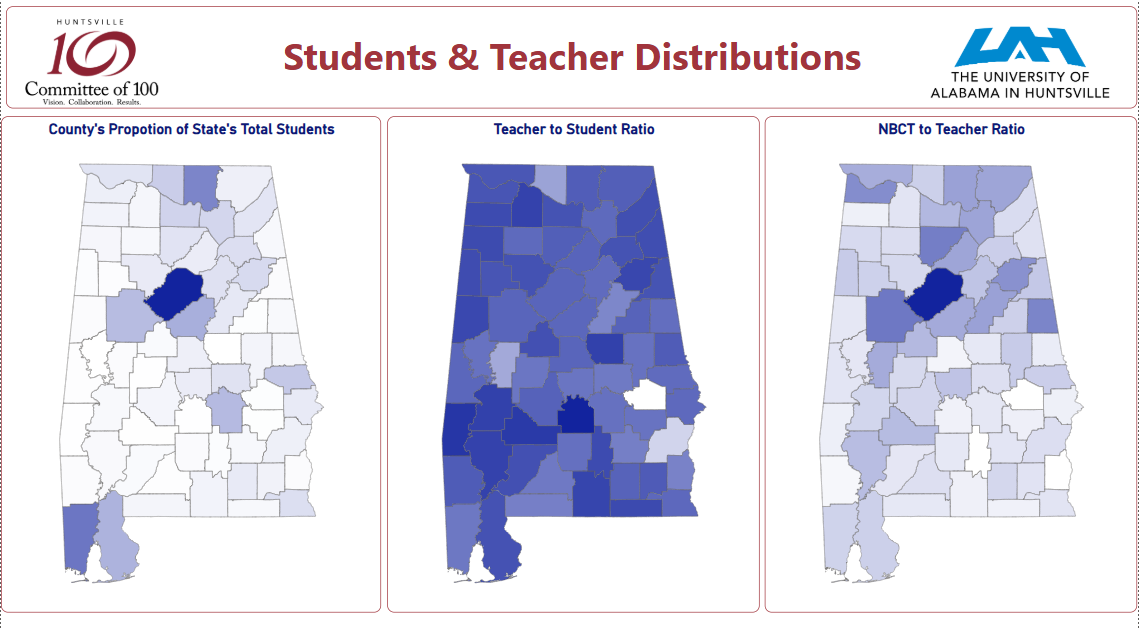

This screenshot's page, from the dashboard's own definition file:
{"tool":"powerbi","page":{"name":"Student and Teacher Distributions ","canvas":[1299,720],"ordinal":3},"visuals":[{"type":"image","box":[15.7,17.1,175.7,107.1],"z":0,"group":"g1"},{"type":"shapeMap","title":"County''s Propotion of State''s Total Students","fields":{"Category":["Alabama Data.County Name"],"Value":["Sum(Proportions Exp.County's Propotion of State's Total Students)"]},"box":[0,132.9,434.3,567.1],"z":0},{"type":"image","box":[1038.6,25.7,251.4,91.4],"z":1000,"group":"g1"},{"type":"shapeMap","title":"Teacher to Student Ratio","fields":{"Category":["Alabama Data.County Name"],"Value":["Sum(Proportions Exp.Teacher to Student Ratio)"]},"box":[440.7,132.9,425.7,567.1],"z":1000},{"type":"shapeMap","title":"NBCT to Teacher Ratio","fields":{"Category":["Alabama Data.County Name"],"Value":["Sum(Proportions Exp.NBCT to Teacher Ratio)"]},"box":[872.9,132.9,425.7,567.1],"z":2000},{"type":"textbox","box":[5.7,7.1,1292.9,117.1],"z":3000},{"type":"group","id":"g1","title":"Group 1","box":[15.7,17.1,1274.3,107.1],"z":4000}]}

Visuals, with their boxes in screenshot pixels (x1, y1, x2, y2), scaled from the page's 1299x720 canvas onto the 1139x628 screenshot:
image: crop(14, 15, 168, 108)
"County''s Propotion of State''s Total Students" shapeMap: crop(0, 116, 381, 611)
image: crop(911, 22, 1131, 102)
"Teacher to Student Ratio" shapeMap: crop(386, 116, 760, 611)
"NBCT to Teacher Ratio" shapeMap: crop(765, 116, 1138, 611)
textbox: crop(5, 6, 1138, 108)
"Group 1" group: crop(14, 15, 1131, 108)
